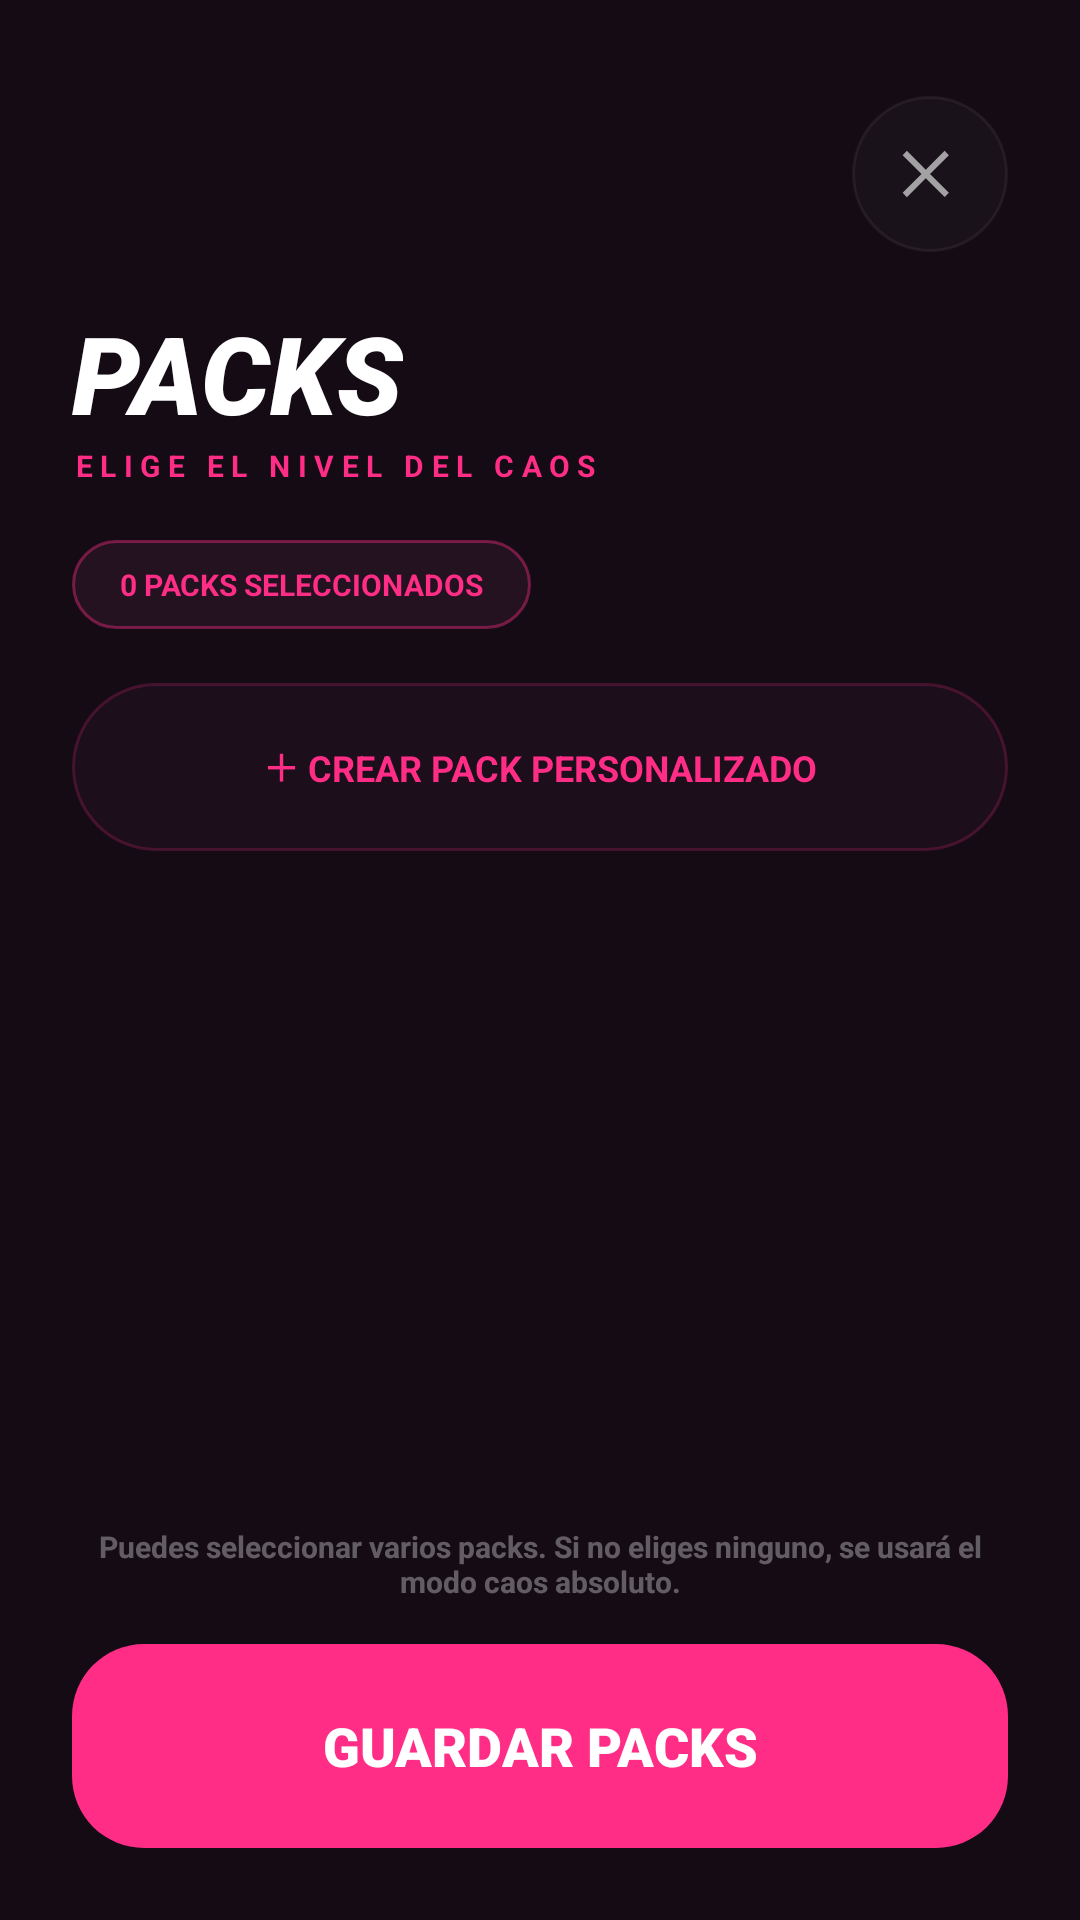

Named icons in this screenshot (1080×1920) and their centers, point (x, y):
Cerrar: point (925, 174)
